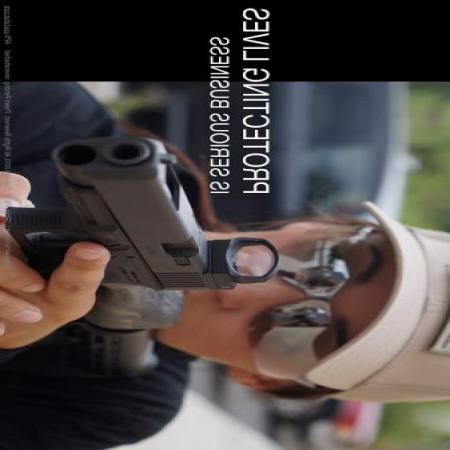Pistol: (2, 136, 286, 288)
